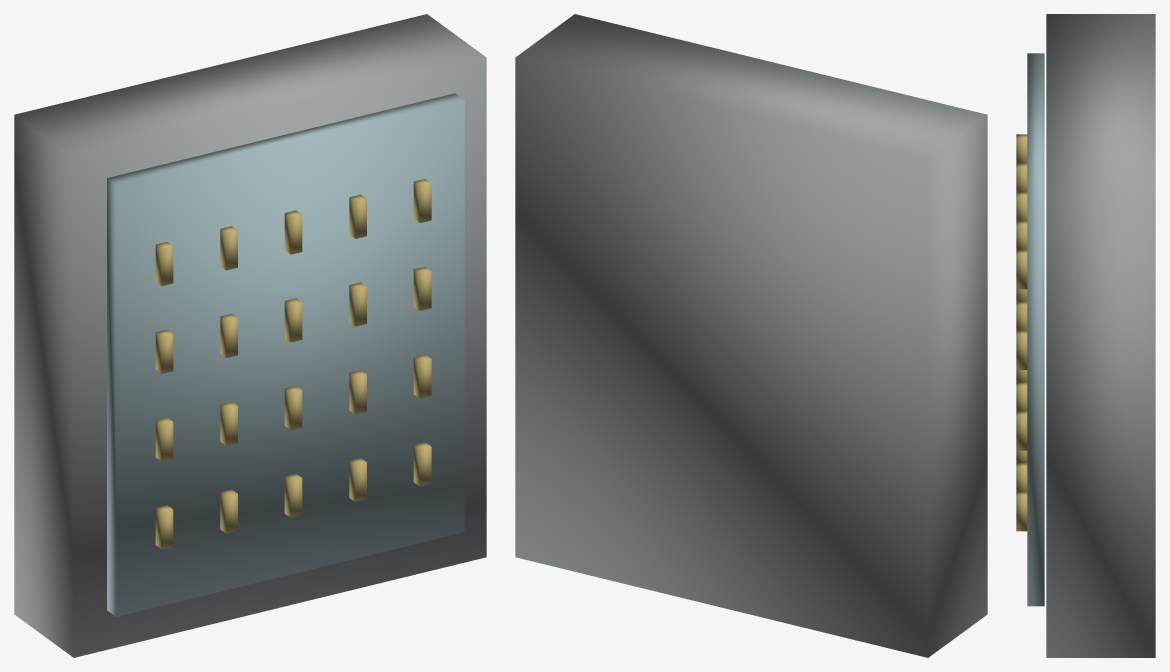
File: wall_key_cabinet.glb
3 views of the same model, side by side, from view 1: azimuth 30°, elevation 25°; view 2: azimuth 150°, elevation 25°; view 3: azimuth 270°, elevation 25° (orthographic). The views are drawn at different scales.
Parts seen in each view (by area): view 1: world; view 2: world; view 3: world.
Boxes of the visible parts, box(x1,y1,x2,y2) form: world: box(14, 14, 486, 657); world: box(515, 14, 987, 657); world: box(1016, 14, 1155, 657).
Size of the model in its own units: 0.64 by 0.74 by 0.204.
